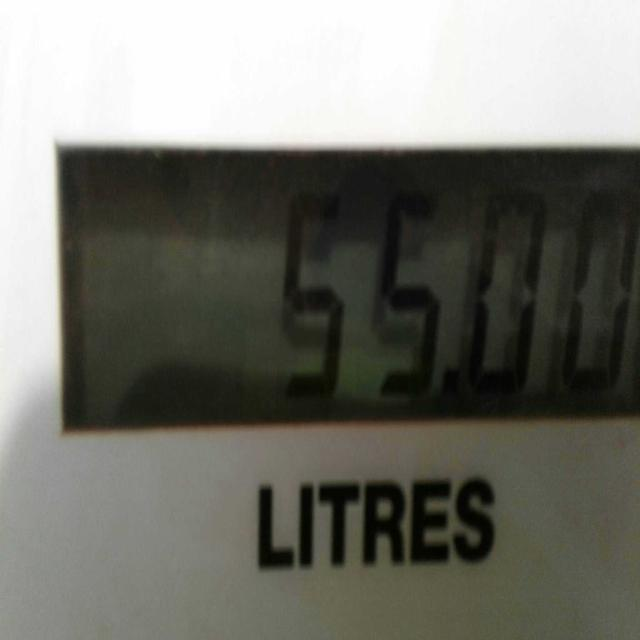.: (436, 337, 466, 404)
0: (456, 155, 560, 402), (564, 156, 636, 409)
5: (249, 156, 363, 413), (362, 156, 450, 420)
